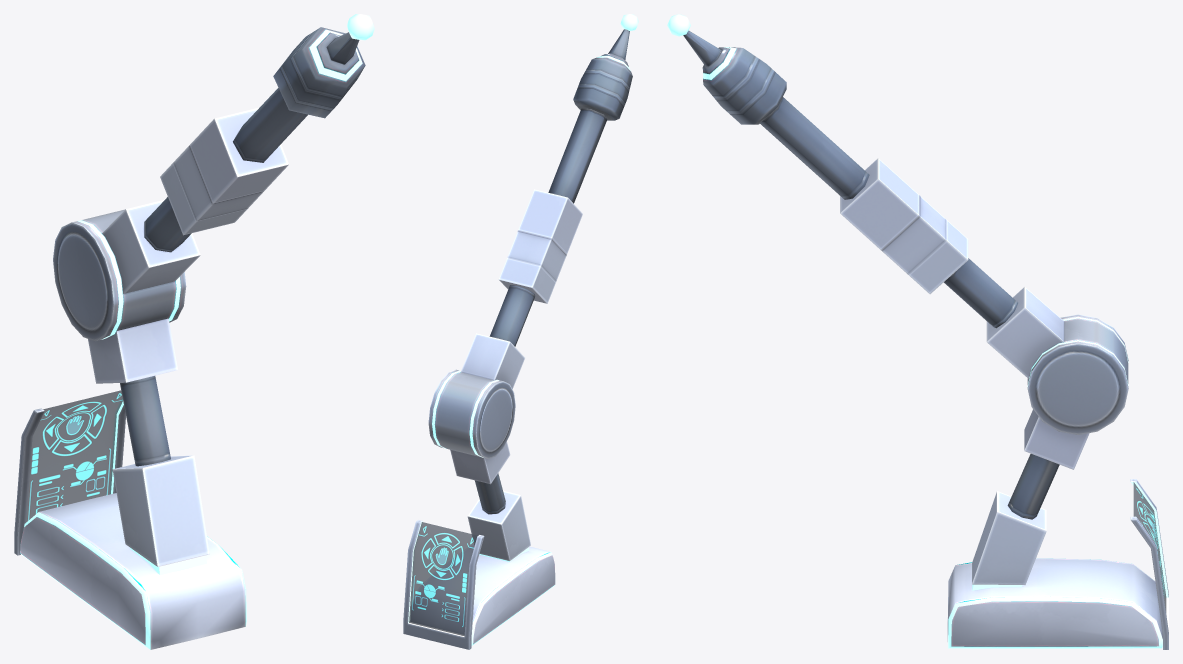
The model's file is obj_hand01.gltf.
The picture shows the model from 3 angles, left to right: view 1: azimuth 30°, elevation 25°; view 2: azimuth 150°, elevation 25°; view 3: azimuth 270°, elevation 25°; orthographic projection. The views are drawn at different scales.
Parts seen in each view (by area): view 1: obj_hand01; view 2: obj_hand01; view 3: obj_hand01.
Boxes of the visible parts, x1,y1,x2,y2 form: obj_hand01: (14,14,374,649); obj_hand01: (403,14,638,649); obj_hand01: (667,14,1168,649).
Size of what is drawn, in the model's own units: 0.3753 by 2.64 by 1.95.
3 materials, 2 textured.
